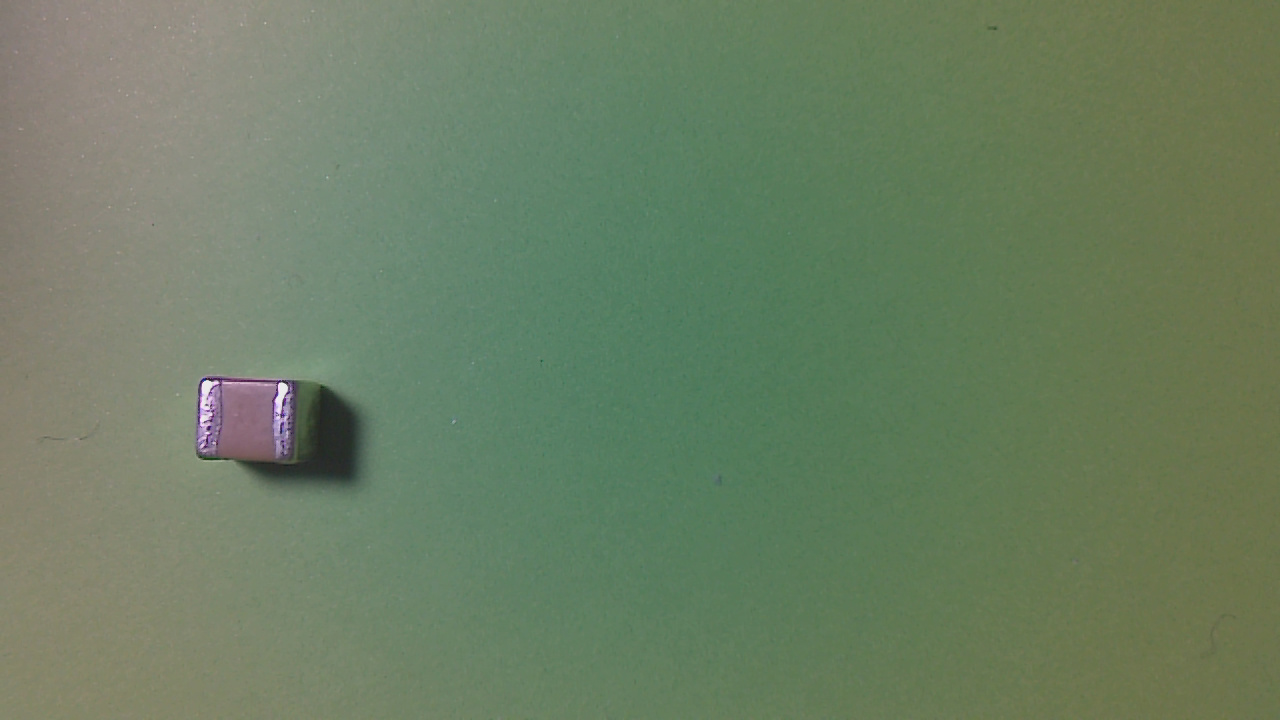Condensator: (197, 377, 304, 472)
